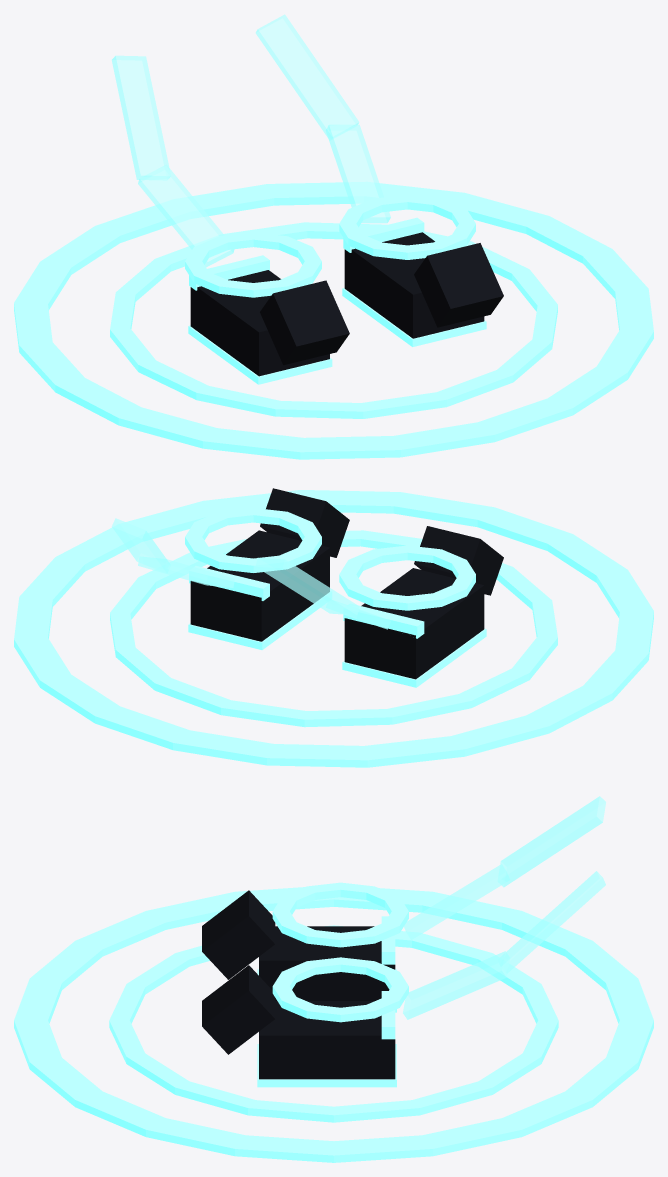
Rendered from gear_sin_t5.glb.
The picture shows the model from 3 angles, top to bottom: view 1: azimuth 30°, elevation 25°; view 2: azimuth 150°, elevation 25°; view 3: azimuth 270°, elevation 25°; orthographic projection.
Visible parts, largest first — view 1: gear_sin_t5; view 2: gear_sin_t5; view 3: gear_sin_t5.
Boxes of the visible parts, x1,y1,x2,y2 form: gear_sin_t5: (14, 14, 653, 459); gear_sin_t5: (14, 488, 653, 767); gear_sin_t5: (14, 796, 653, 1162).
Size of the model in its own units: 0.94 by 0.3159 by 0.94.
